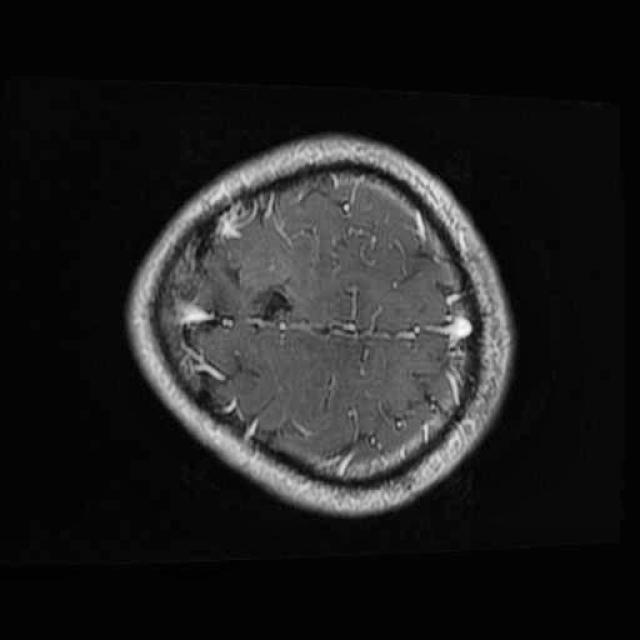Tumor: (238, 272, 316, 344)
